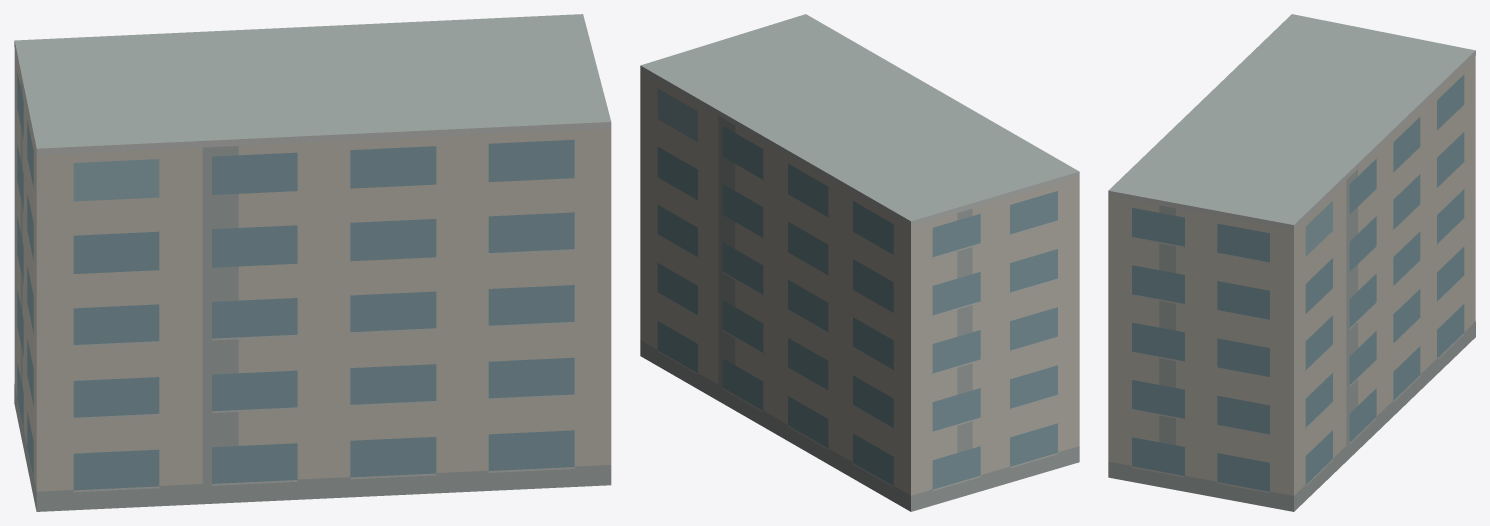
The model's file is survey-upis-32851232.glb.
The picture shows the model from 3 angles, left to right: view 1: azimuth 30°, elevation 25°; view 2: azimuth 150°, elevation 25°; view 3: azimuth 270°, elevation 25°; orthographic projection. The views are drawn at different scales.
Parts seen in each view (by area): view 1: survey-upis-32851232.tmp; view 2: survey-upis-32851232.tmp; view 3: survey-upis-32851232.tmp.
Part boxes in pixels (x1,y1,x2,y2): survey-upis-32851232.tmp: [14, 14, 611, 511]; survey-upis-32851232.tmp: [640, 14, 1079, 511]; survey-upis-32851232.tmp: [1108, 14, 1475, 511].
Bounding box in the file's own units: 21 × 13.3 × 15.45.
